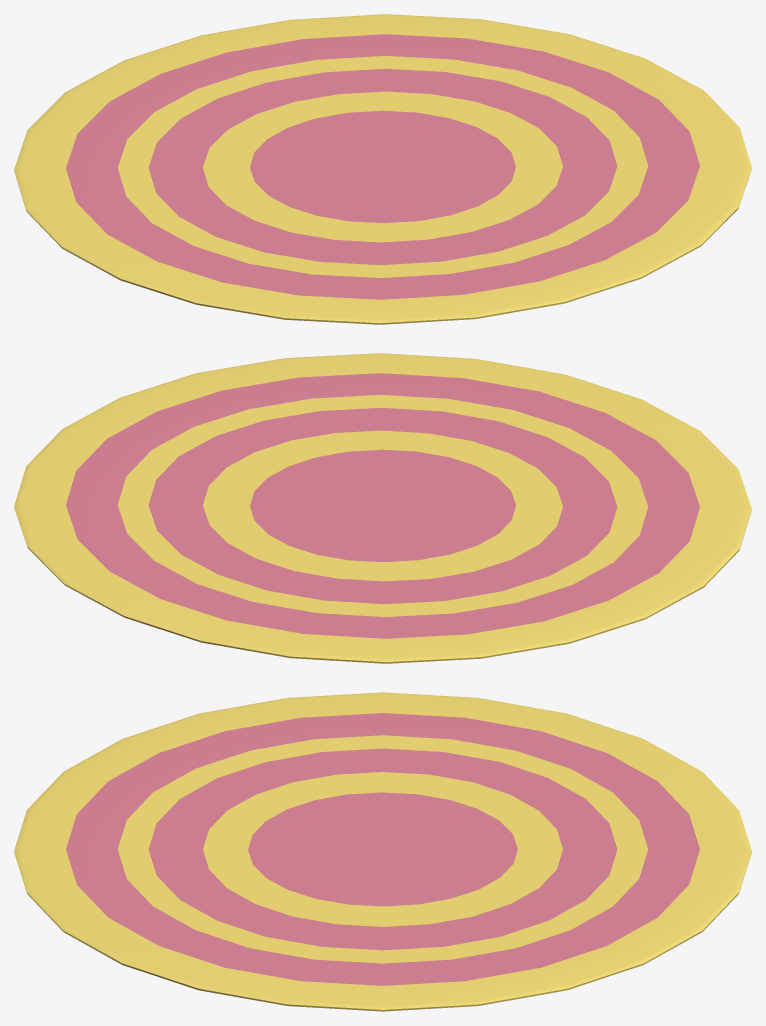
File: Carpet_1.glb
3 views of the same model, one above another, from view 1: azimuth 30°, elevation 25°; view 2: azimuth 150°, elevation 25°; view 3: azimuth 270°, elevation 25° (orthographic).
Visible parts, largest first — view 1: Carpet_1; view 2: Carpet_1; view 3: Carpet_1.
Boxes of the visible parts, left/top/right/bottom form: Carpet_1: left=14, top=14, right=751, bottom=324; Carpet_1: left=14, top=353, right=751, bottom=663; Carpet_1: left=14, top=692, right=751, bottom=1011.
Size of the model in its own units: 2.21 by 0.0114 by 2.17.
Materials: 1 (1 with a texture image).
